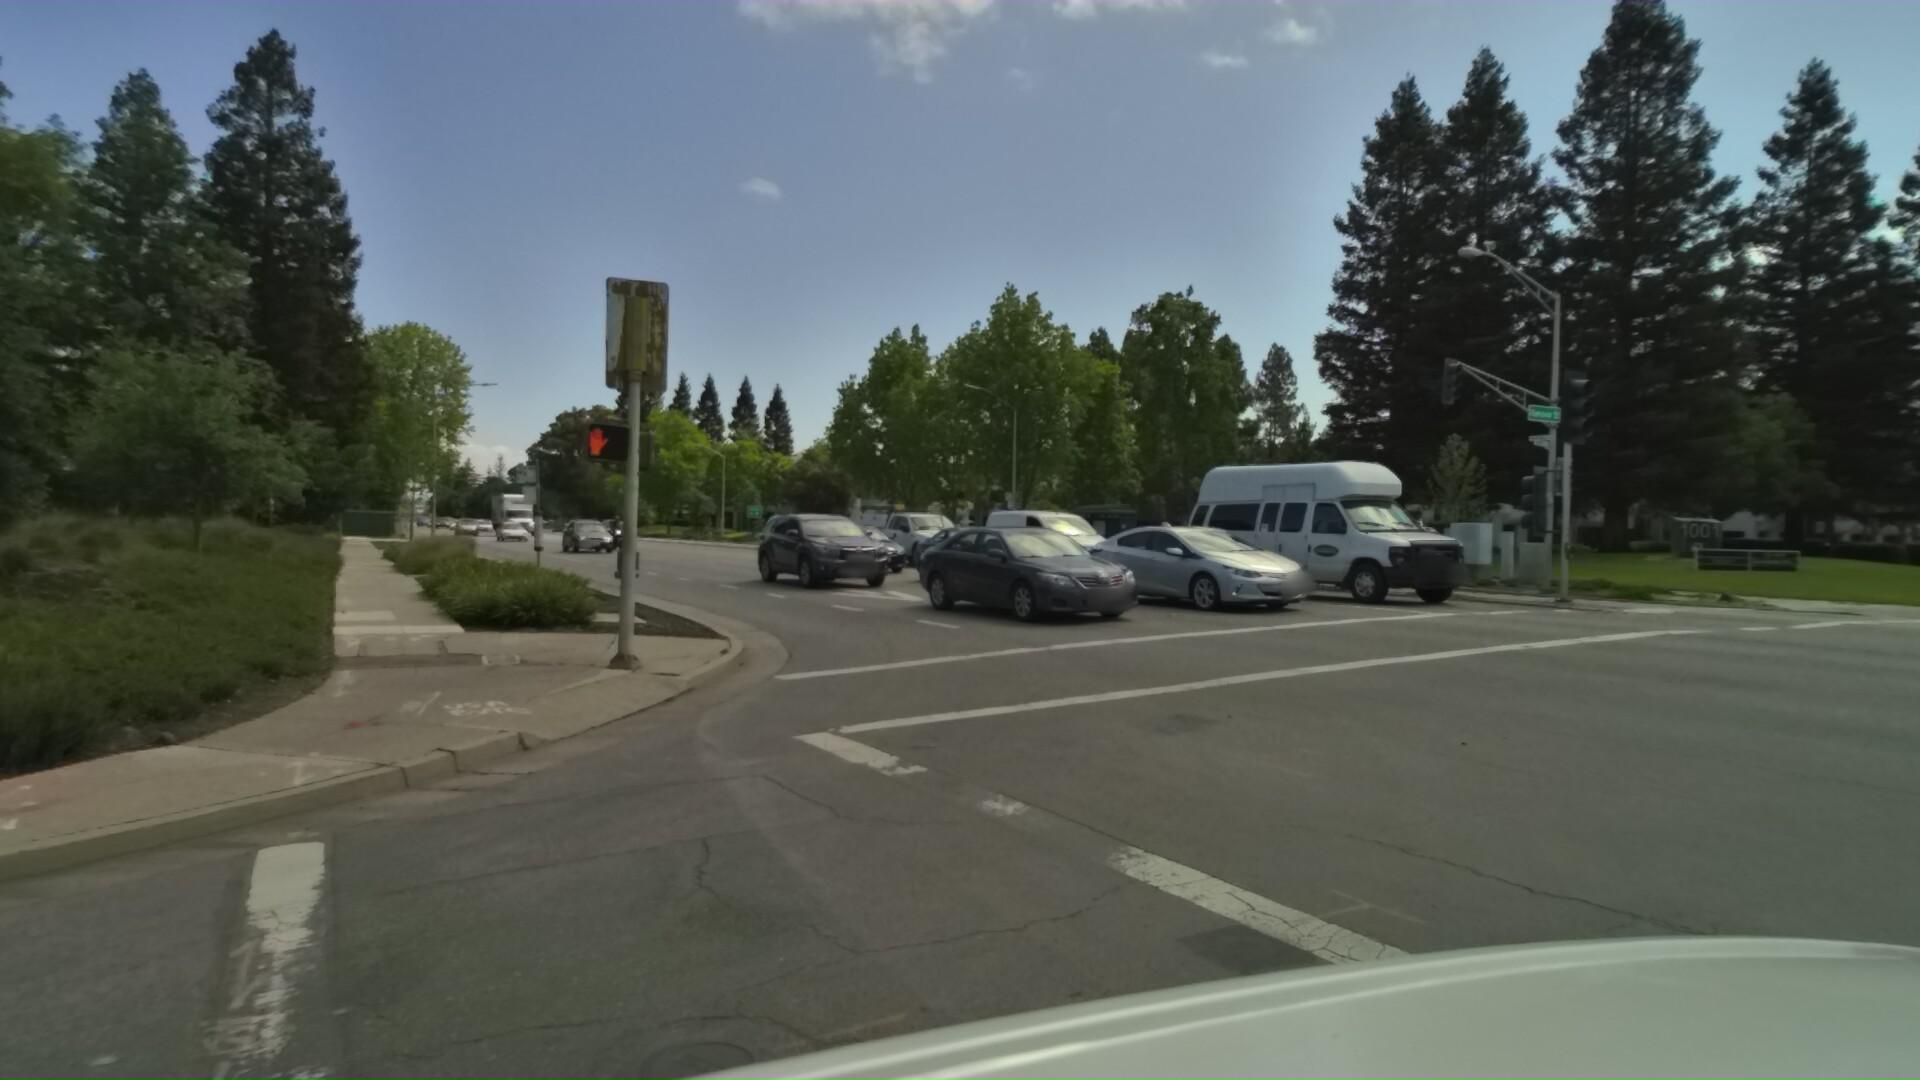car: (1187, 447, 1507, 597), (926, 520, 1191, 632), (1098, 506, 1354, 607), (767, 506, 913, 589), (985, 496, 1139, 572), (862, 491, 1002, 568), (922, 517, 1069, 585), (825, 518, 948, 578), (568, 512, 626, 549), (500, 512, 535, 537)
motorcycle: (612, 512, 641, 543)
